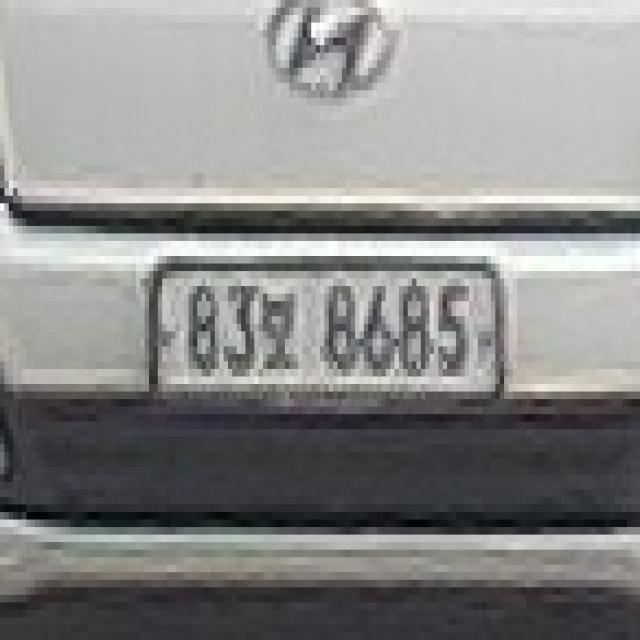plat: (153, 256, 500, 400)
